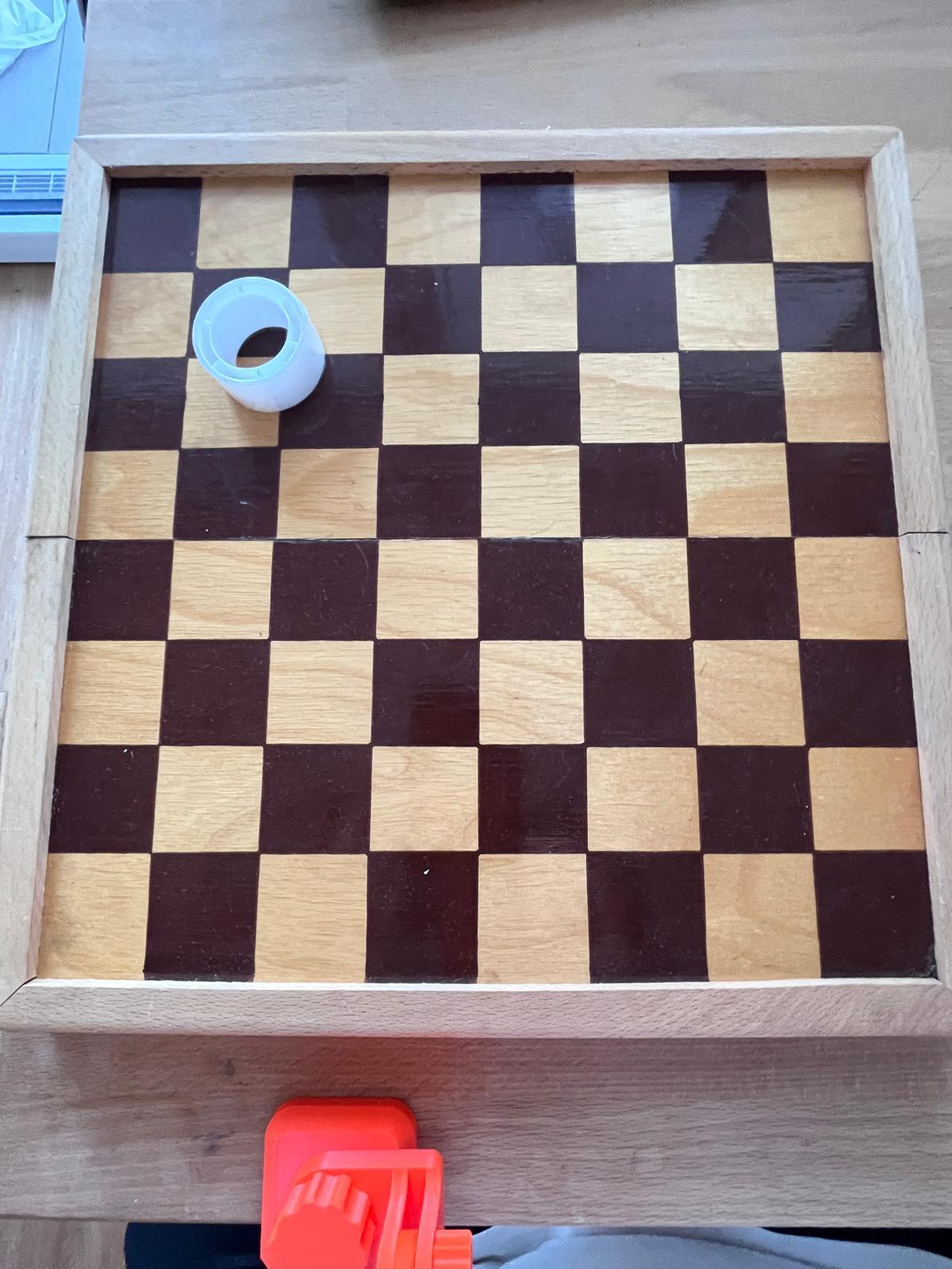tape: (190, 271, 330, 416)
